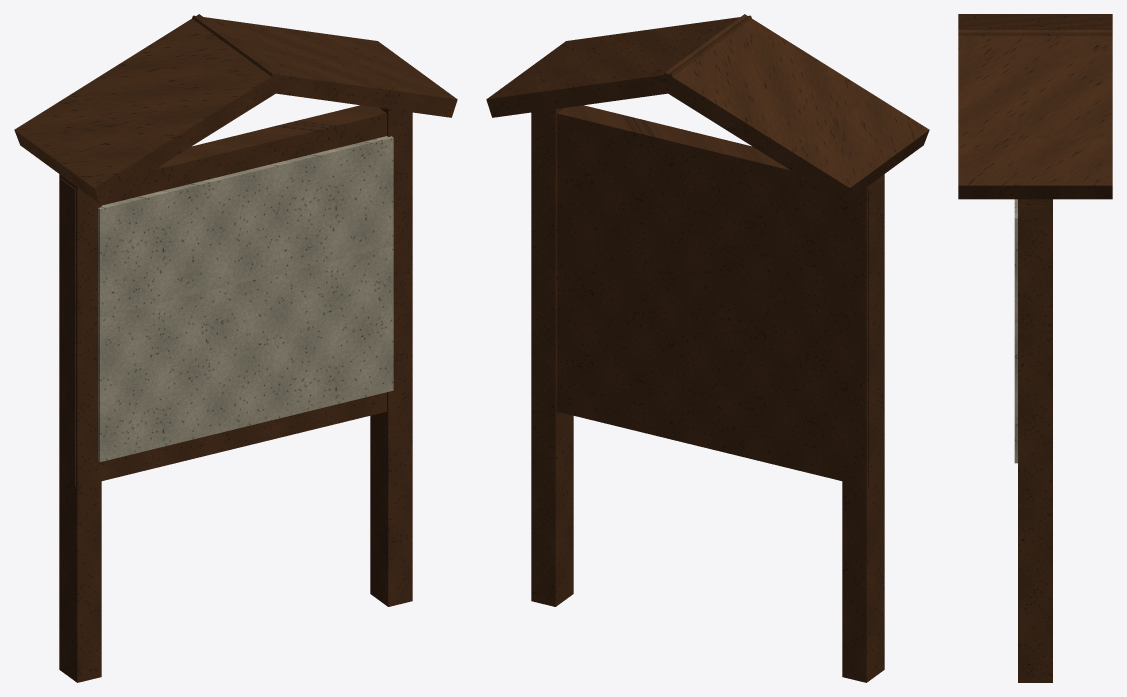
File: PROP-A3E04046058F_lod2.glb
3 renders of one model, left to right at view 1: azimuth 30°, elevation 25°; view 2: azimuth 150°, elevation 25°; view 3: azimuth 270°, elevation 25°, orthographic. The views are drawn at different scales.
Parts seen in each view (by area): view 1: original_map_panel.001, pitched_information_roof.001, information_posts.001, map_backboard.001; view 2: map_backboard.001, pitched_information_roof.001, information_posts.001; view 3: pitched_information_roof.001, information_posts.001, map_backboard.001, original_map_panel.001.
Part boxes in pixels (x1,y1,x2,y2): original_map_panel.001: (98, 136, 393, 461); pitched_information_roof.001: (14, 14, 457, 203); information_posts.001: (59, 108, 412, 682); map_backboard.001: (60, 105, 386, 487); map_backboard.001: (557, 105, 883, 487); pitched_information_roof.001: (486, 14, 929, 203); information_posts.001: (531, 108, 884, 682); pitched_information_roof.001: (958, 14, 1112, 199); information_posts.001: (1018, 199, 1052, 682); map_backboard.001: (1021, 206, 1049, 495); original_map_panel.001: (1014, 199, 1017, 463).
Bounding box in the file's own units: 2.11 × 3.27 × 0.8.
2 materials, 2 textured.
